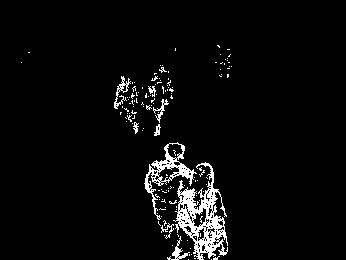person: (146, 140, 197, 259), (181, 159, 230, 260), (115, 74, 141, 134), (146, 71, 167, 138)
